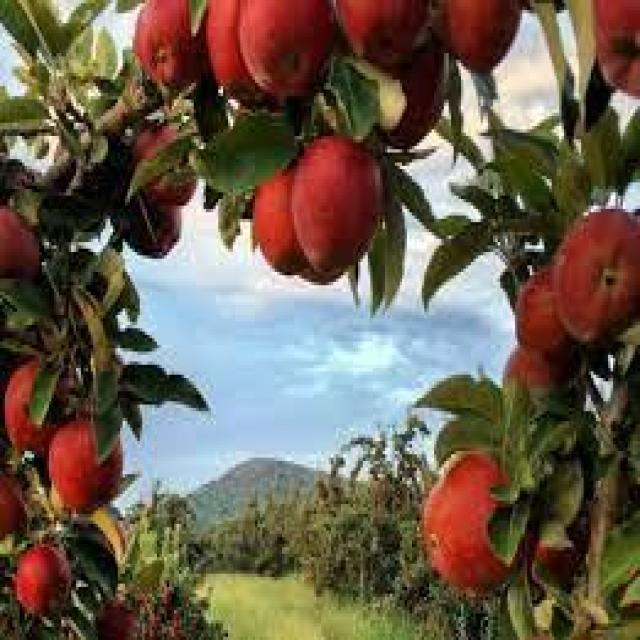fruit: (423, 453, 526, 593), (290, 140, 386, 284), (554, 210, 640, 341), (238, 0, 336, 103), (372, 44, 449, 149), (48, 416, 124, 511), (132, 0, 208, 94), (5, 360, 74, 459), (335, 0, 432, 69), (581, 0, 640, 113), (253, 165, 314, 274), (438, 0, 523, 73), (131, 123, 198, 210), (206, 1, 262, 103), (515, 269, 577, 359), (14, 544, 70, 616), (532, 520, 585, 589), (123, 195, 181, 258), (505, 342, 569, 399), (0, 207, 42, 284), (96, 581, 146, 640), (0, 474, 27, 542)
